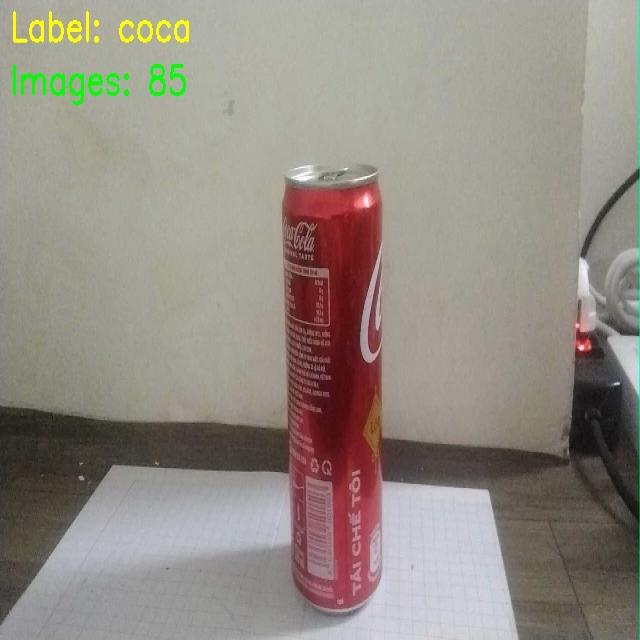Coca: (256, 158, 420, 636)
